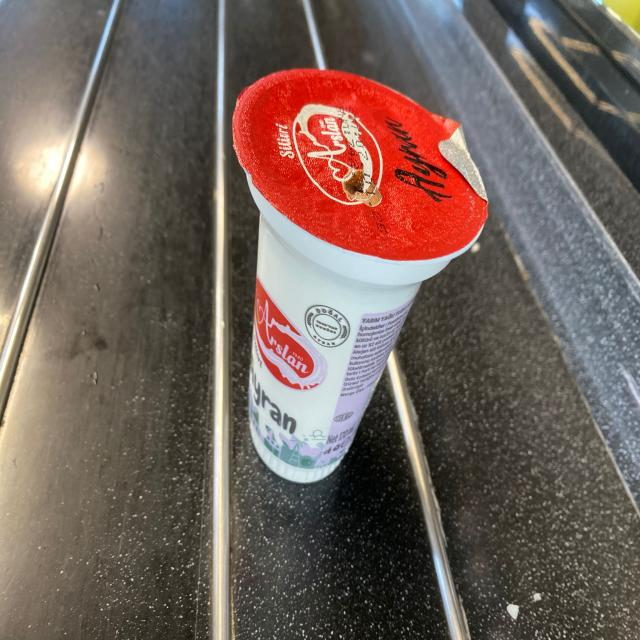yan_yemek: (230, 66, 490, 484)
